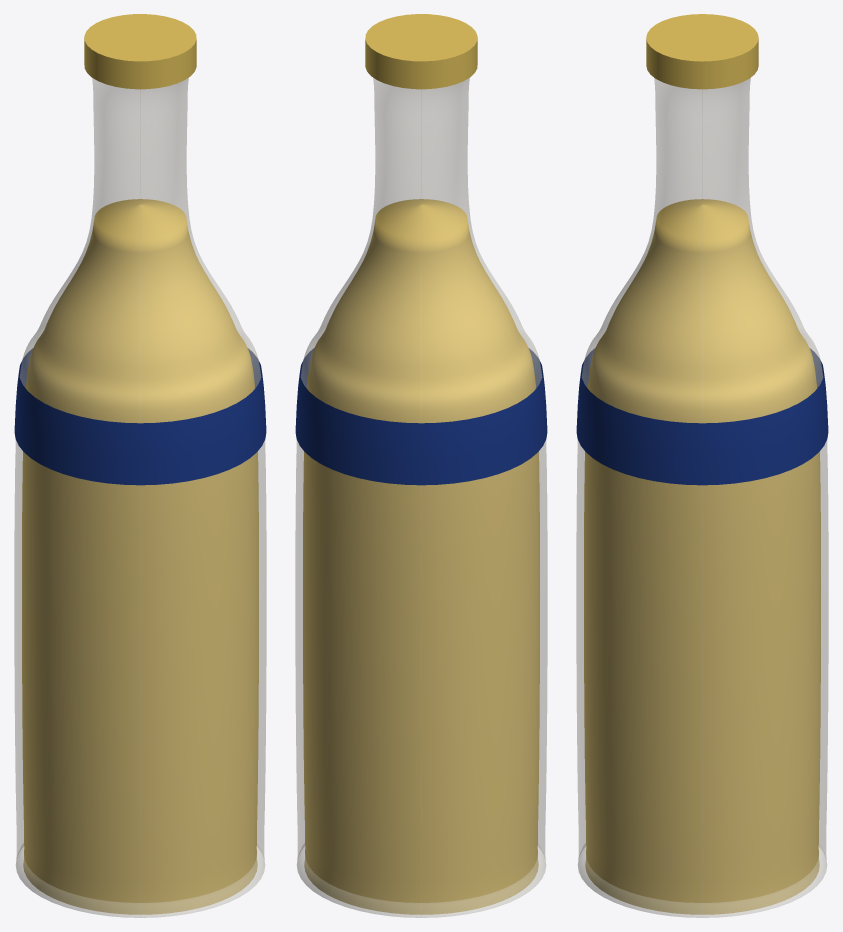
Rendered from coronita.glb.
3 renders of one model, left to right at view 1: azimuth 30°, elevation 25°; view 2: azimuth 150°, elevation 25°; view 3: azimuth 270°, elevation 25°, orthographic.
Parts seen in each view (by area): view 1: vidrio, liquido, etiqueta, tapa; view 2: vidrio, liquido, etiqueta, tapa; view 3: vidrio, liquido, etiqueta, tapa.
Part boxes in pixels (box(x1,y1,x2,y2)): vidrio: box(14, 78, 266, 917); liquido: box(22, 199, 258, 914); etiqueta: box(14, 348, 266, 485); tapa: box(84, 14, 196, 89); vidrio: box(295, 78, 547, 917); liquido: box(303, 199, 539, 914); etiqueta: box(295, 348, 547, 485); tapa: box(365, 14, 477, 89); vidrio: box(576, 78, 828, 917); liquido: box(584, 199, 820, 914); etiqueta: box(576, 349, 828, 485); tapa: box(646, 14, 758, 89).
Bounding box in the file's own units: 0.0488 × 0.1767 × 0.0488.
